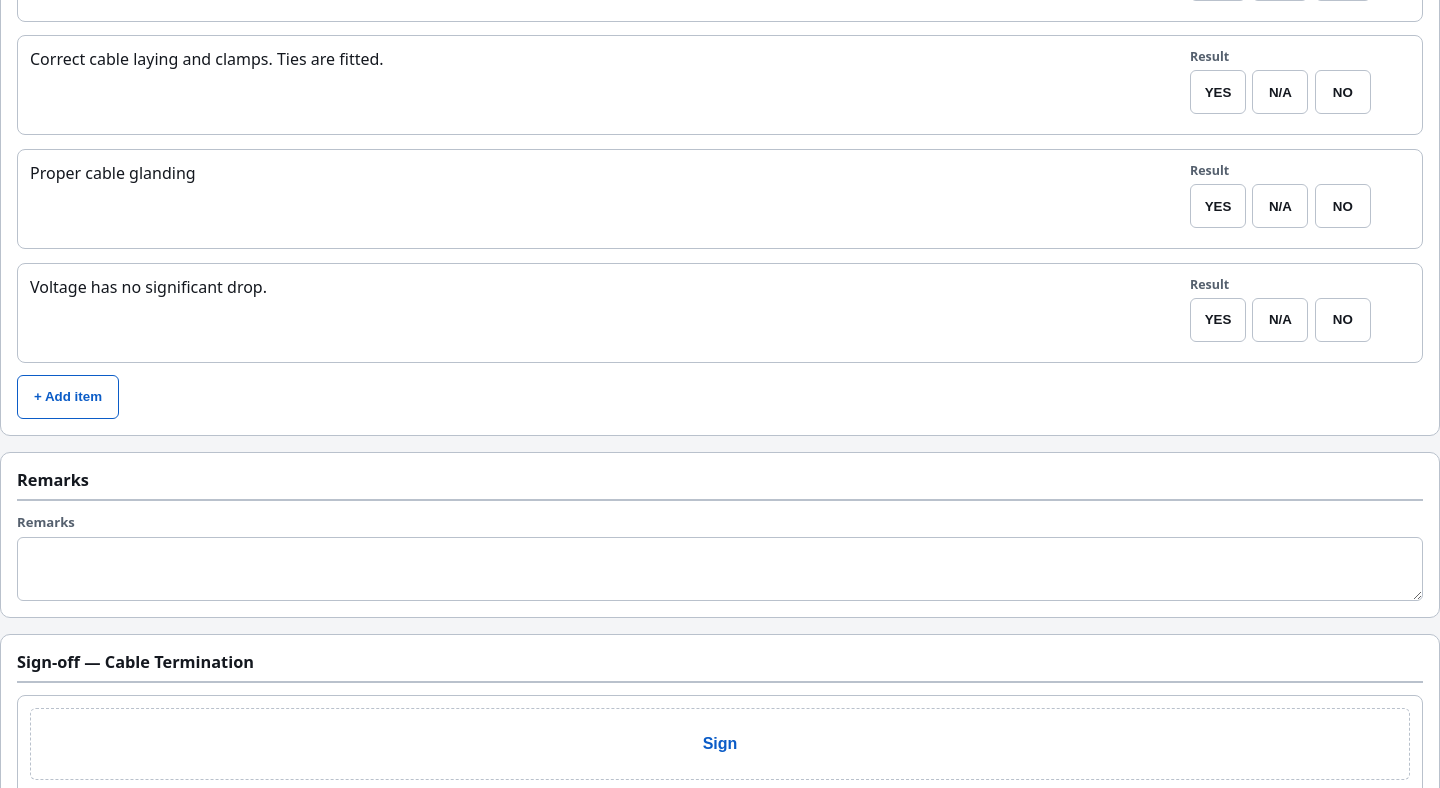
Test case: Power Turn-on renders through the generic renderer › lets an engineer append an ad-hoc row to the cable-termination list
(page scrolled)
What coordinates should you click on to do the following:
click the button "+ Add item"
I would click on:
 (68, 397)
Its box is [17,375,119,419].
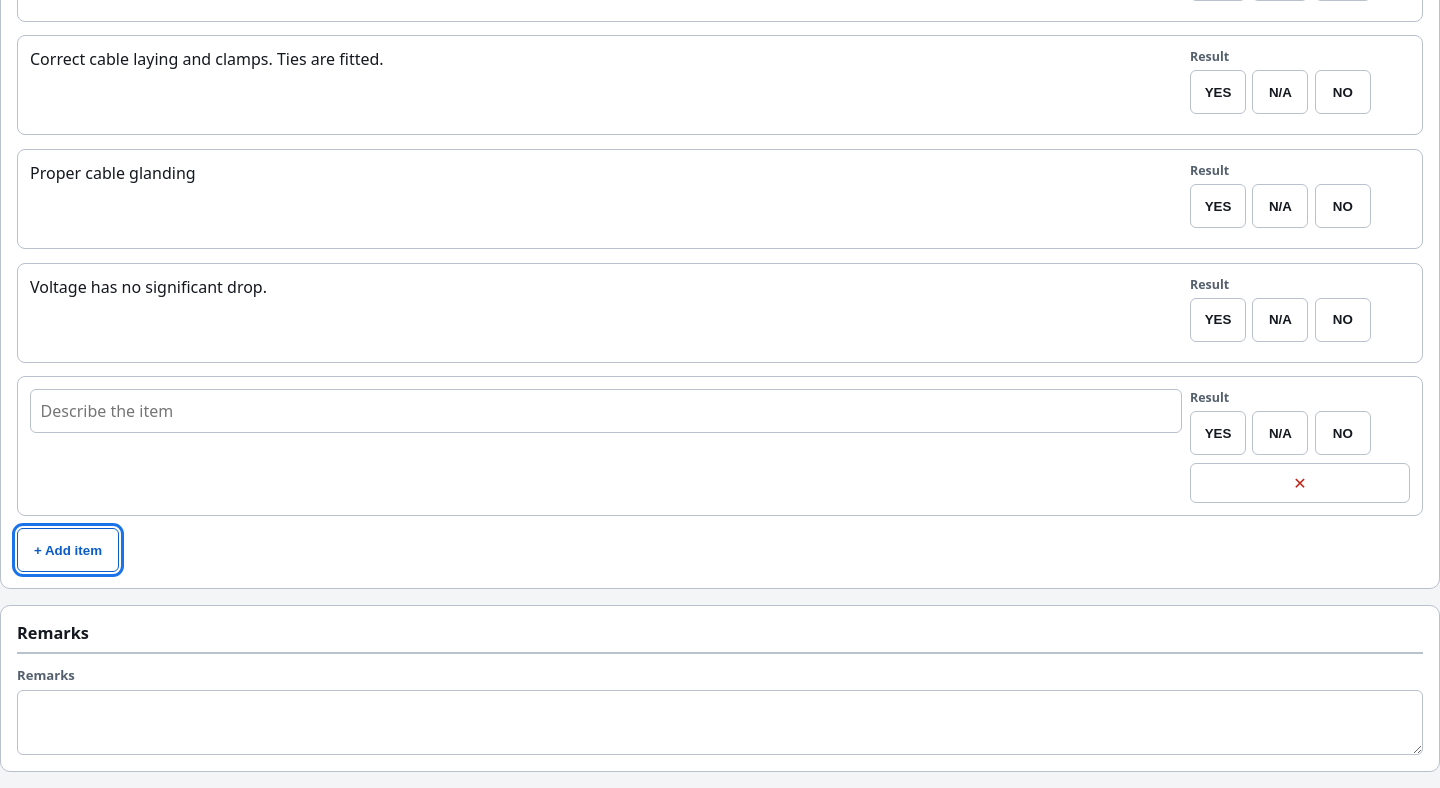
Expected: the field named "Added item description" is shown, [30,389,1182,433]
Expected: the element named "Result — added item" is shown, [1190,411,1371,455]
